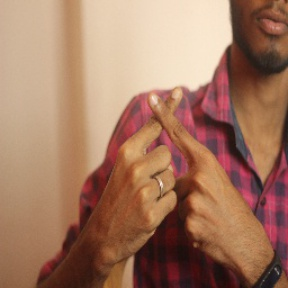X: (111, 77, 224, 178)
